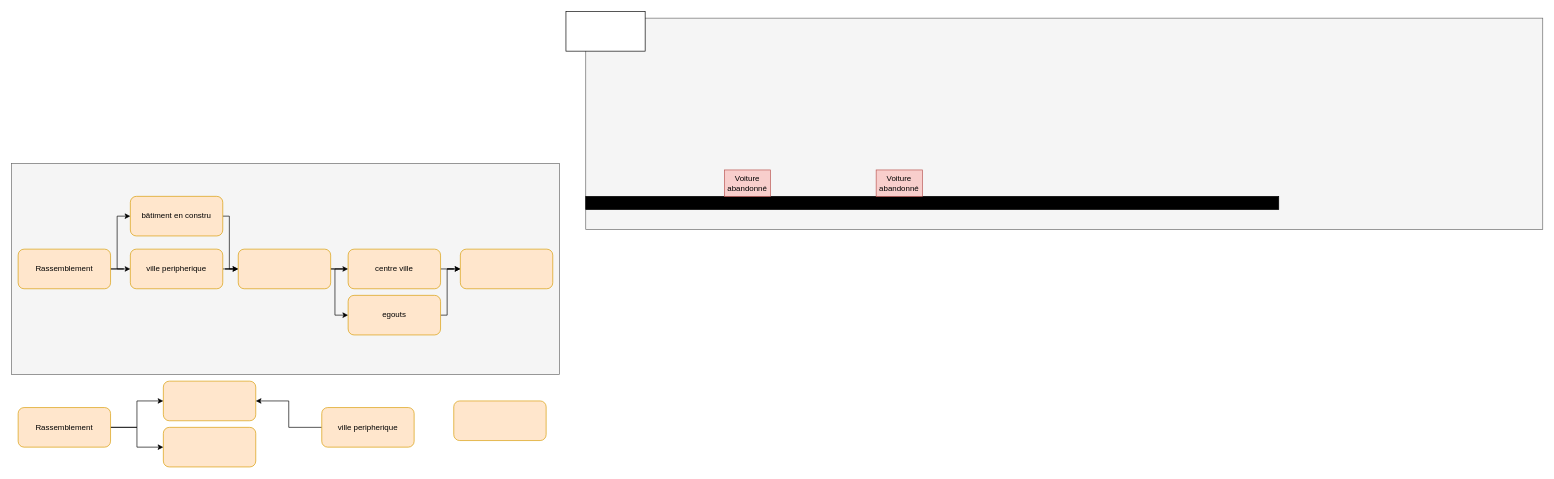
This 1554x479 diagram has some shape labels left out. The shapes that lost their labels are listed below. From the top down, each one's centre as x and y in pixels, then its label:
pixel 605 31: Sorti rasso + chantier
pixel 284 268: ville périphérique
pixel 506 268: retour maison
pixel 209 400: assez plat, peu de hauteur
pixel 209 447: nuit, voiture, fumée, lumière de projecteur
